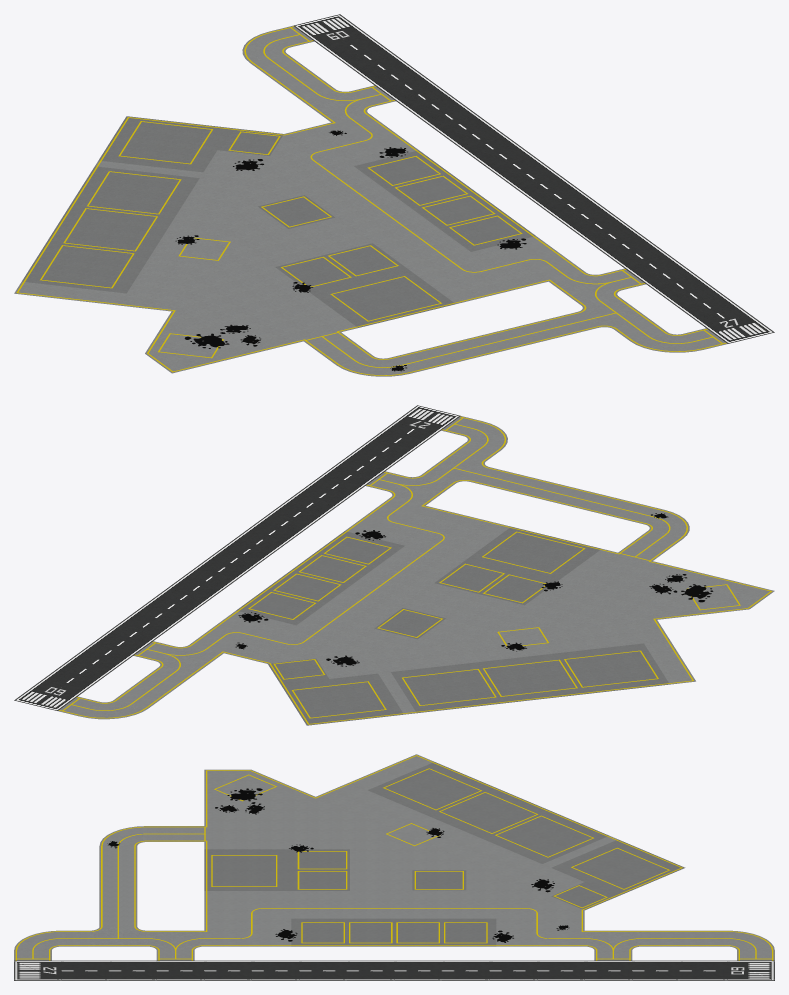
The model's file is airport.fbx.
3 renders of one model, top to bottom at view 1: azimuth 30°, elevation 25°; view 2: azimuth 150°, elevation 25°; view 3: azimuth 270°, elevation 25°, orthographic. The views are drawn at different scales.
Parts seen in each view (by area): view 1: Ground, Runway, oil, Runway_Start, Runway_End; view 2: Ground, Runway, oil, Runway_Start, Runway_End; view 3: Ground, Runway, oil, Runway_Start, Runway_End.
Part boxes in pixels (<box>): Ground: <box>14,25,727,376</box>; Runway: <box>320,34,747,323</box>; oil: <box>175,130,526,371</box>; Runway_Start: <box>701,312,774,343</box>; Runway_End: <box>293,14,366,45</box>; Ground: <box>58,416,774,725</box>; Runway: <box>40,423,435,692</box>; oil: <box>235,513,713,666</box>; Runway_Start: <box>392,405,460,434</box>; Runway_End: <box>14,682,82,710</box>; Ground: <box>14,754,774,960</box>; Runway: <box>61,960,727,980</box>; oil: <box>107,788,569,942</box>; Runway_Start: <box>14,960,61,980</box>; Runway_End: <box>727,960,774,980</box>.
Size of the model in its own units: 835 by 0.887 by 1184.
